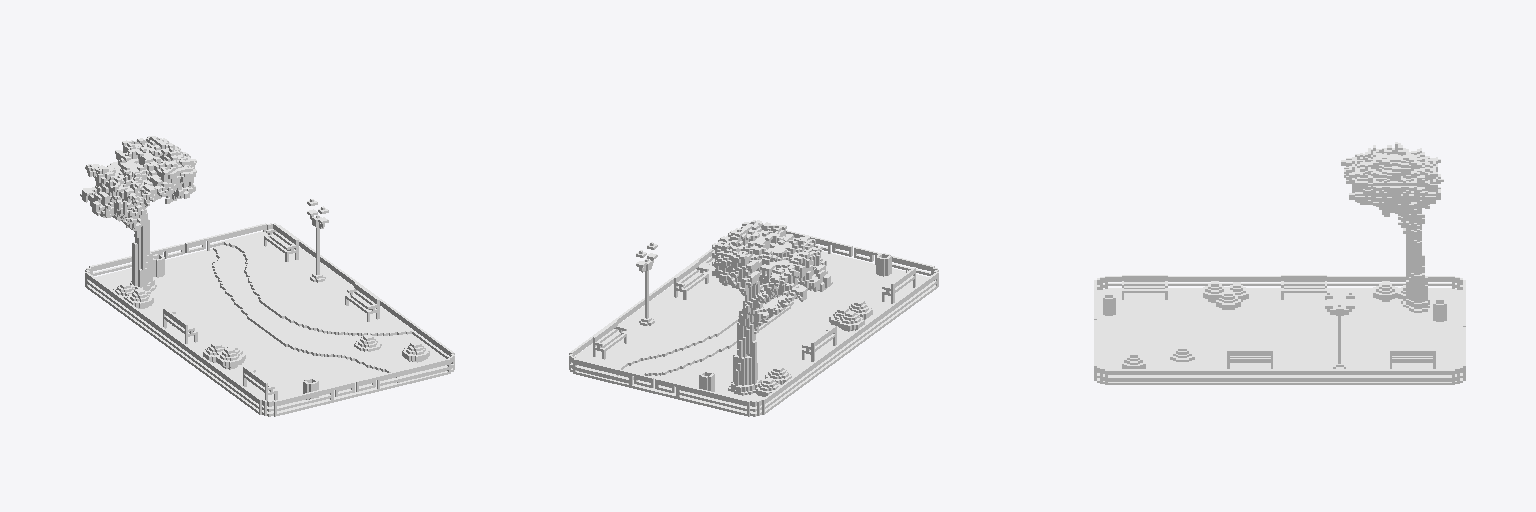
Rendered from Park-1.obj.
3 views of the same model, side by side, from view 1: azimuth 30°, elevation 25°; view 2: azimuth 150°, elevation 25°; view 3: azimuth 270°, elevation 25° (orthographic).
Parts seen in each view (by area): view 1: object 1; view 2: object 1; view 3: object 1.
Boxes of the visible parts, <box> form: object 1: <box>80,136,454,416</box>; object 1: <box>569,220,938,416</box>; object 1: <box>1094,142,1465,384</box>.
Bounding box in the file's own units: 9.5 × 6.5 × 13.7.